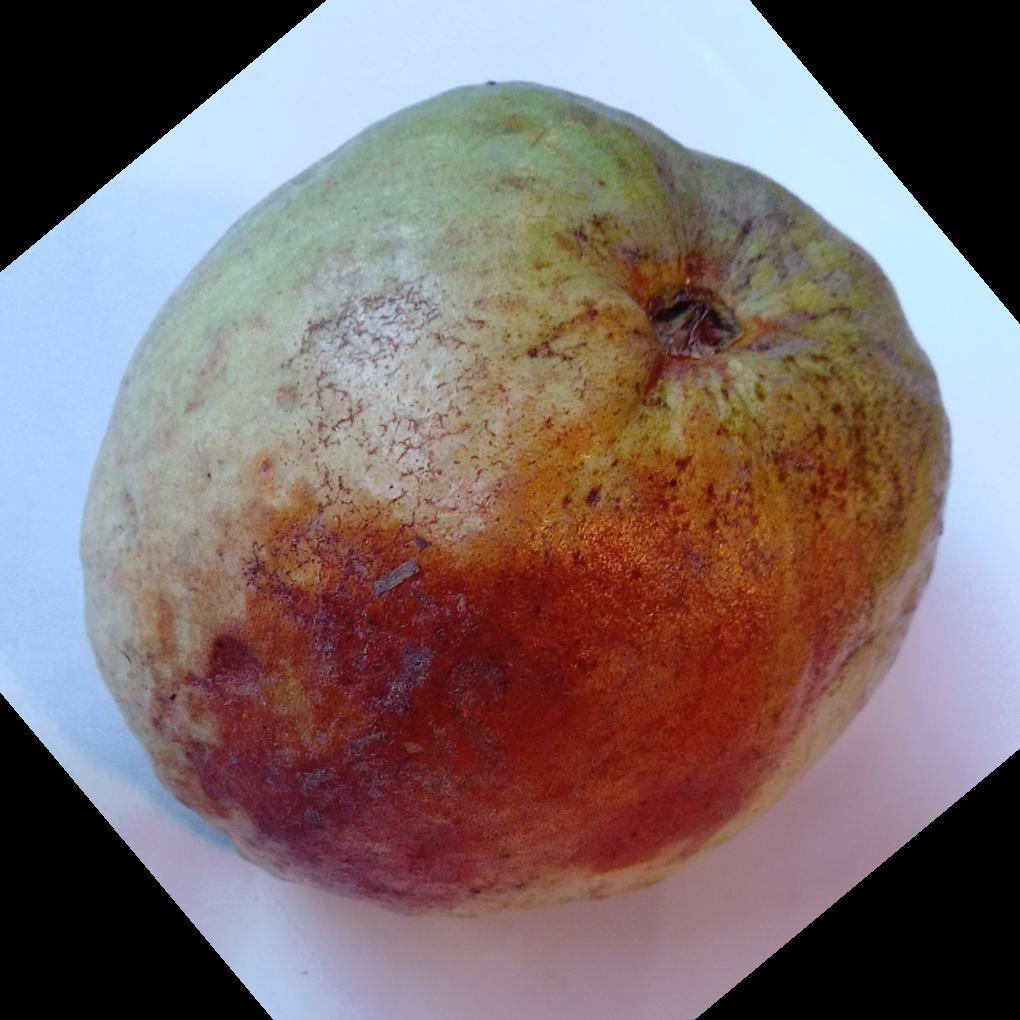FreshOrange: (75, 82, 954, 924)
